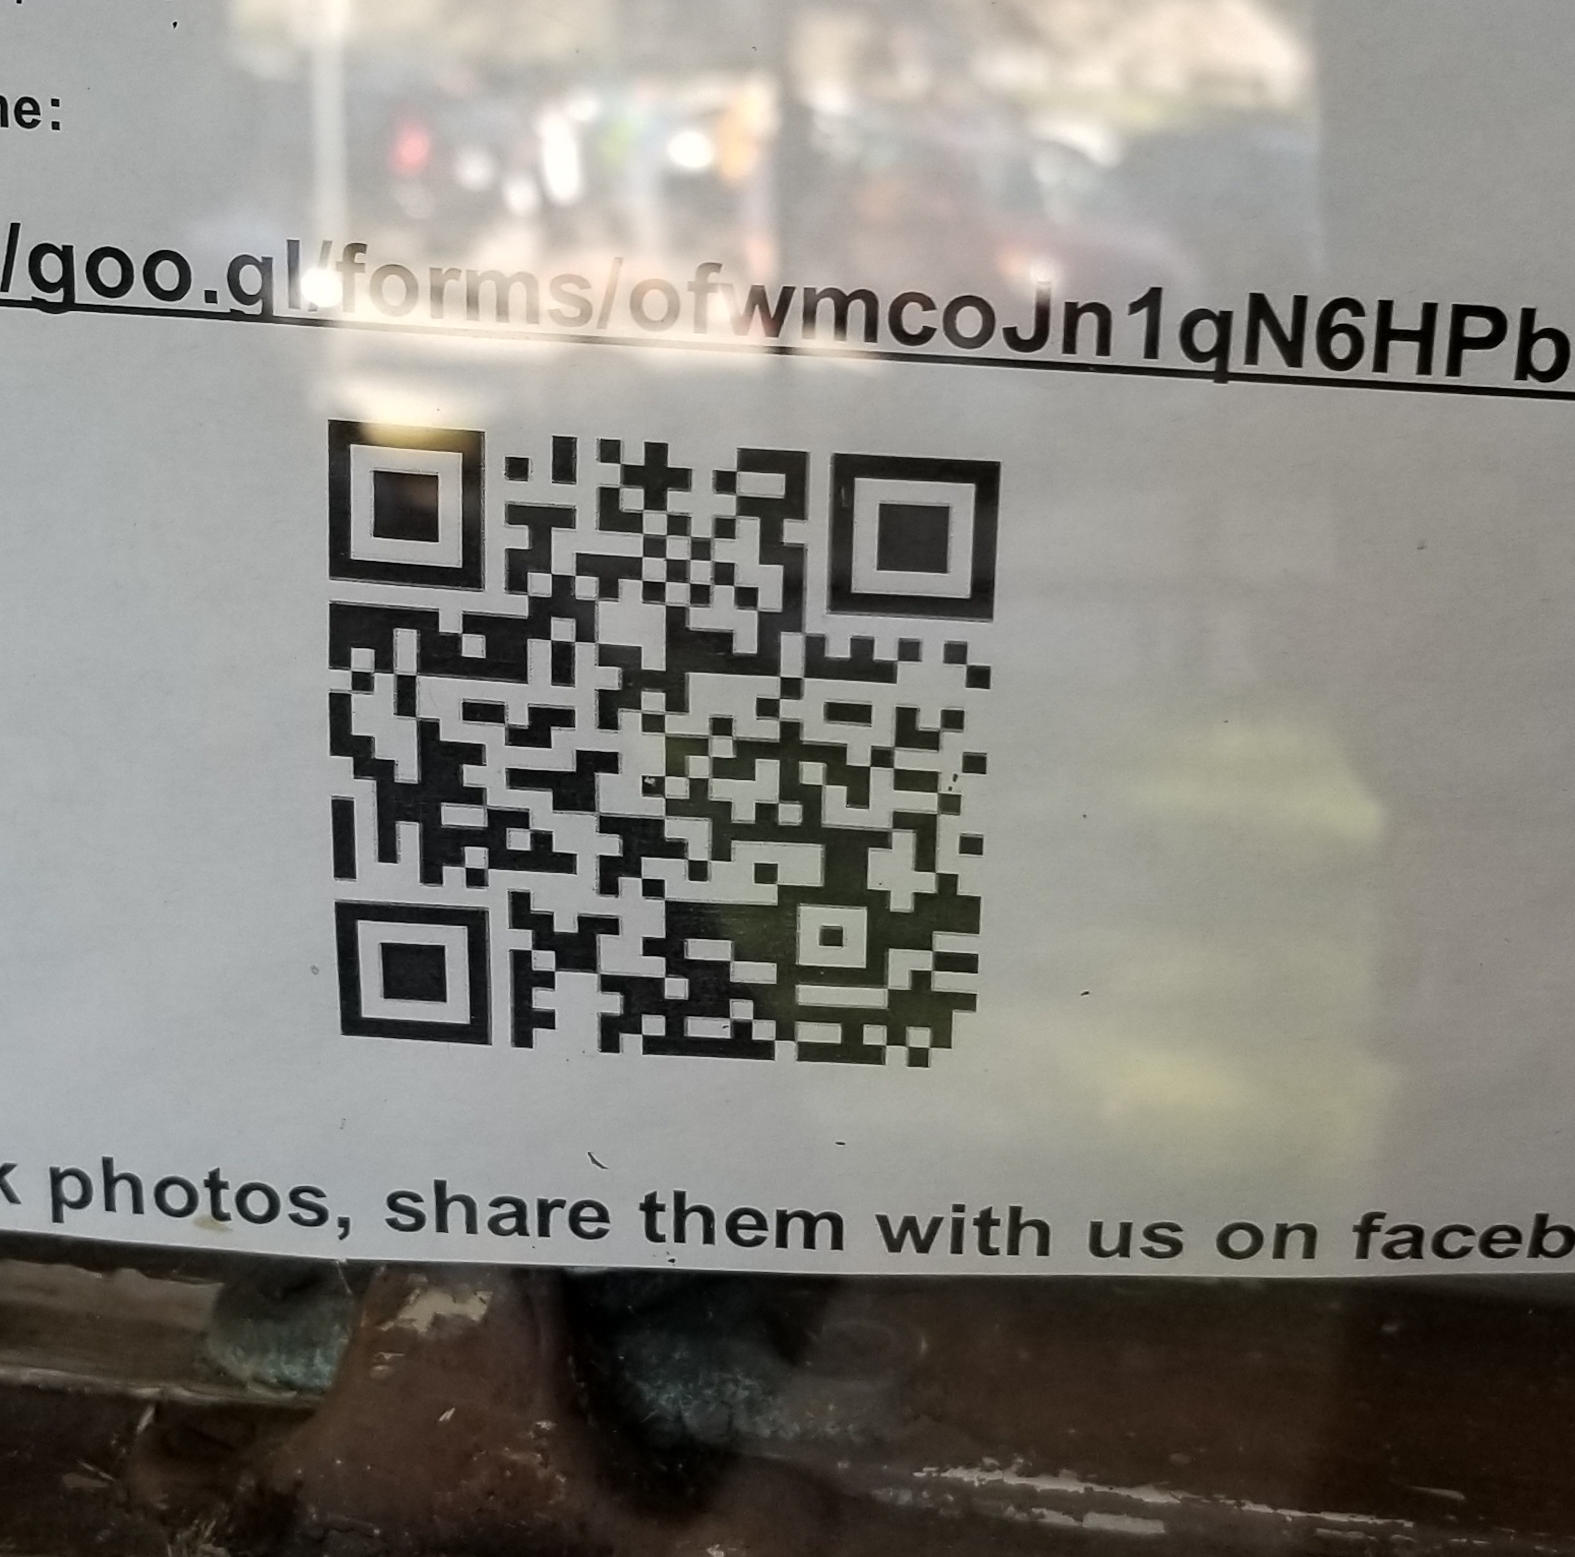QR_CODE: (295, 374, 1016, 1094)
